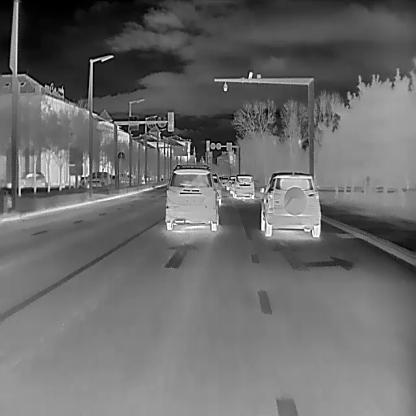car: (258, 172, 320, 237), (165, 162, 220, 230), (79, 171, 114, 187), (232, 174, 254, 199), (19, 172, 47, 186), (211, 171, 221, 205), (226, 174, 236, 191), (221, 175, 228, 187)
